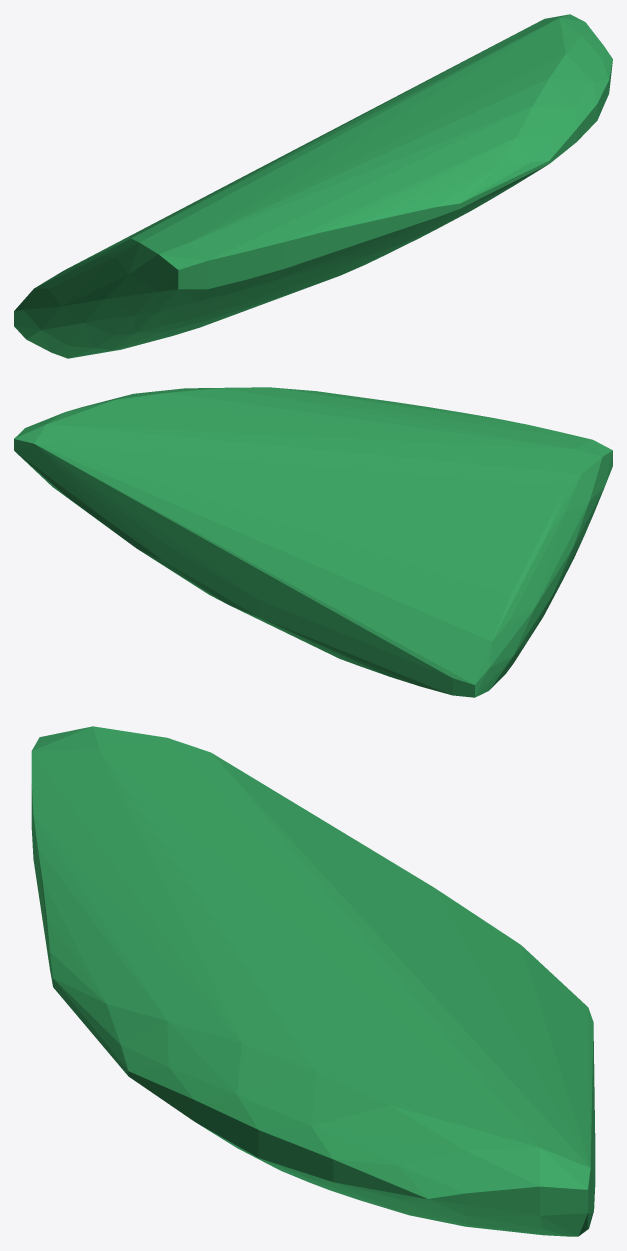
The model's file is right-hip-yaw-0_part_10.obj.
3 views of the same model, one above another, from view 1: azimuth 30°, elevation 25°; view 2: azimuth 150°, elevation 25°; view 3: azimuth 270°, elevation 25° (orthographic). The views are drawn at different scales.
Size of the model in its own units: 0.0205 by 0.00706 by 0.0106.
